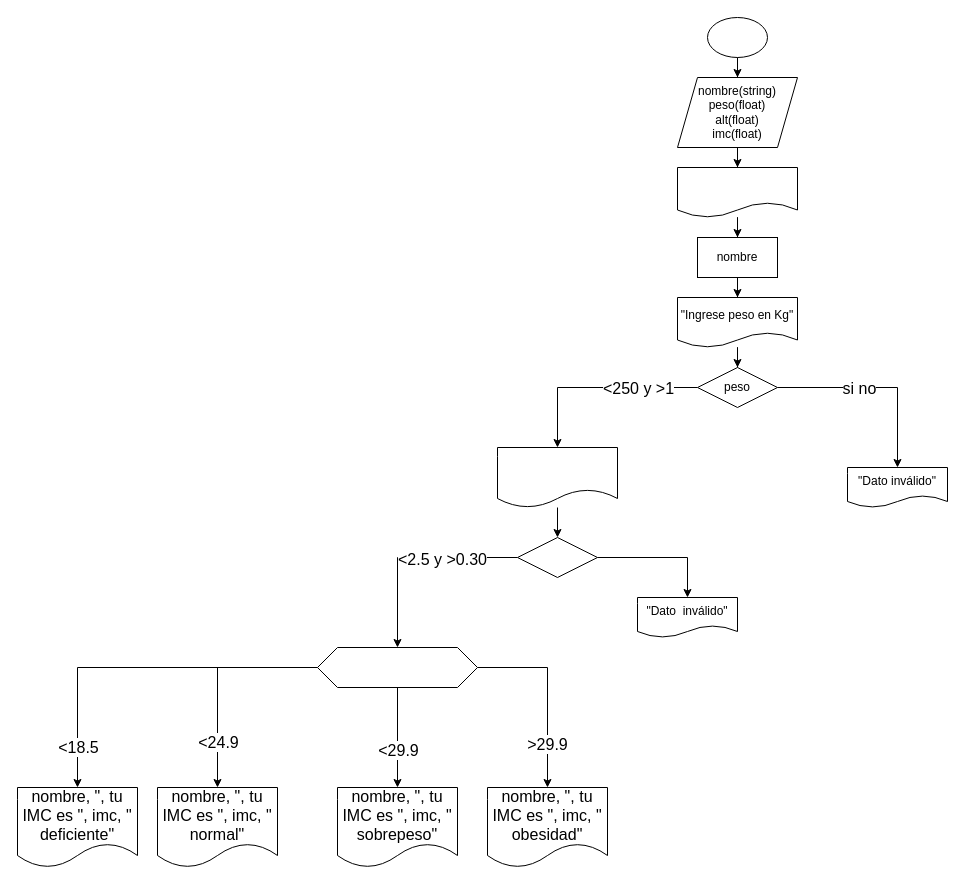
Some shapes in this 965 by 885 pixel diagram are drawn without their labels. The box of each missing label's shape, as (x1, y1, x2, y2) in pixels:
"Ingrese altura en metros": (496, 446, 618, 508)
"Ingrese nombre": (676, 166, 798, 218)
alt: (516, 536, 598, 578)
imc = (peso / alt)/alt: (316, 646, 478, 688)
Inicio: (706, 16, 768, 58)
